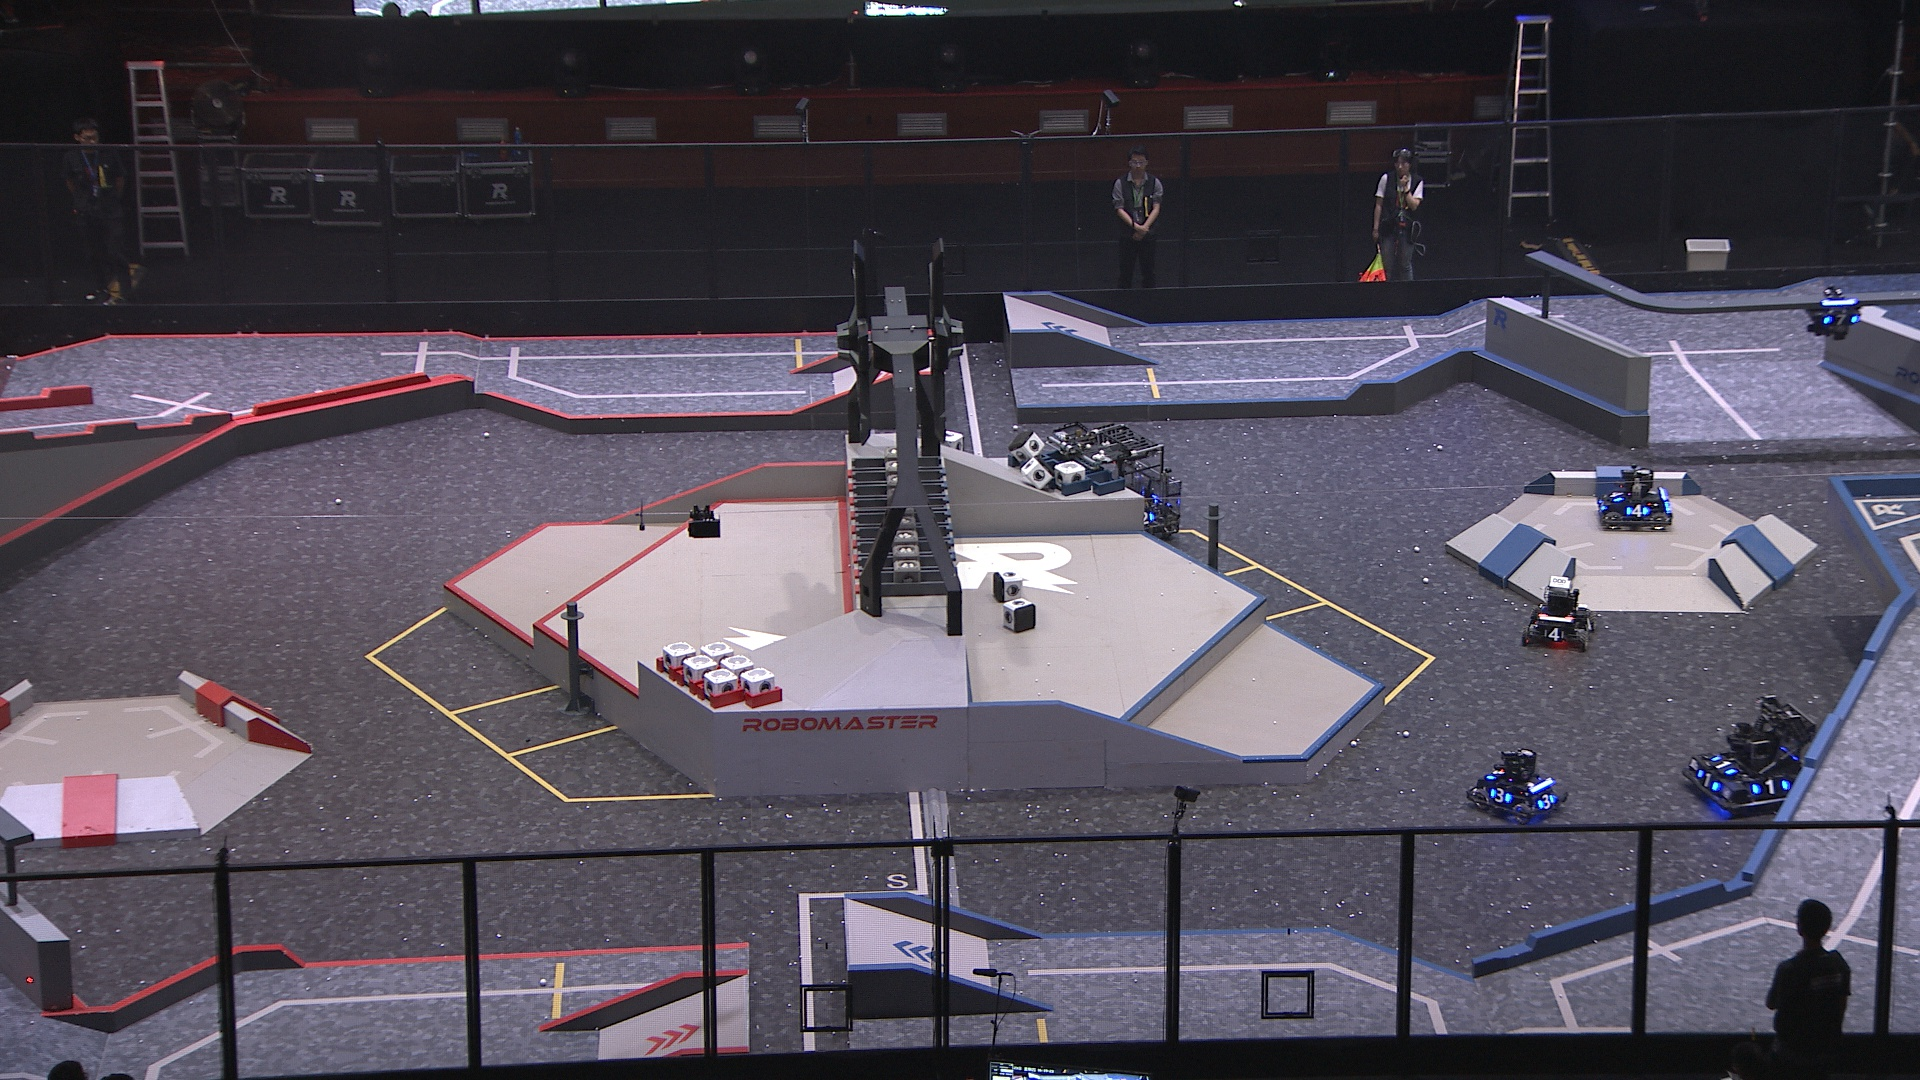armor: (1695, 767, 1721, 790), (1712, 752, 1735, 773), (1756, 779, 1787, 794), (1536, 790, 1555, 814), (1489, 789, 1513, 807), (1542, 626, 1567, 644), (1826, 314, 1858, 327), (1623, 504, 1648, 518), (1486, 764, 1503, 781), (1578, 616, 1594, 633), (1609, 487, 1623, 502), (1143, 508, 1156, 524), (1600, 500, 1607, 516)
car: (1051, 419, 1185, 545), (1679, 694, 1817, 815), (1466, 742, 1561, 822), (1519, 579, 1600, 654), (1594, 462, 1673, 535)
watcher: (1807, 285, 1865, 343)
